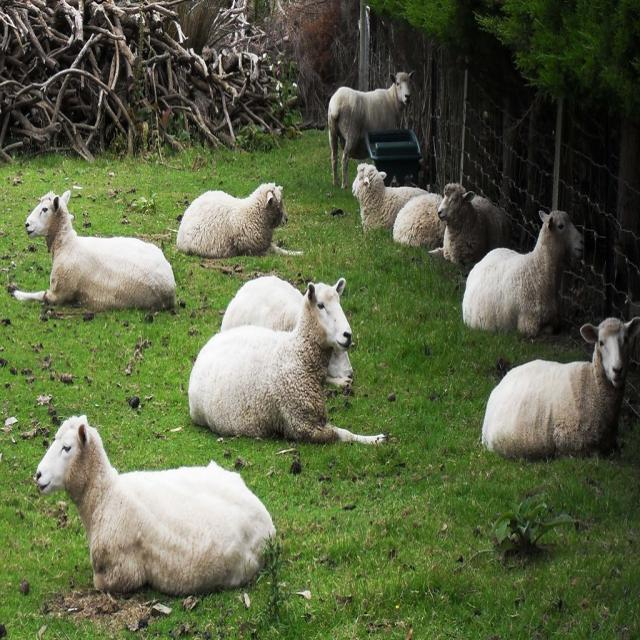Sheep: (13, 71, 640, 596)
